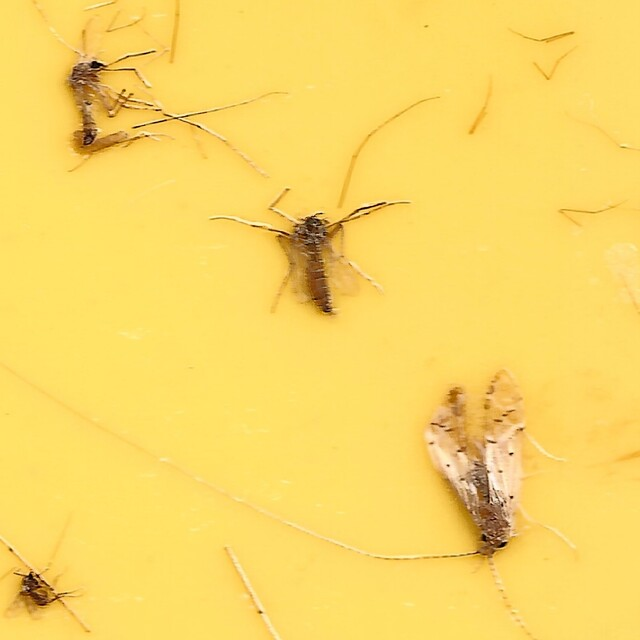Nematocera: (227, 182, 401, 320), (61, 52, 142, 147)
Plecoptera: (423, 365, 579, 588)
